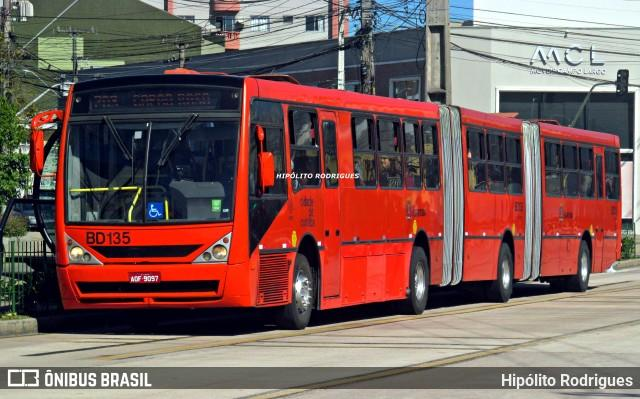CAPAO RASO: (130, 89, 214, 111)
